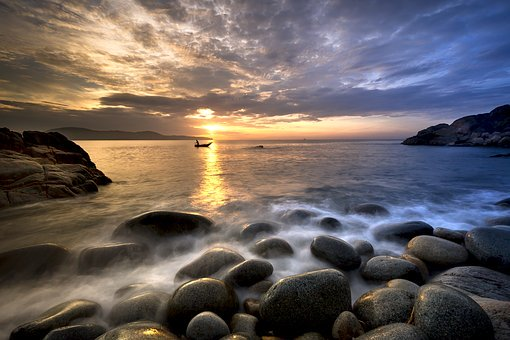sea: (33, 137, 510, 256)
sky: (4, 5, 507, 136)
stone: (188, 227, 507, 335)
